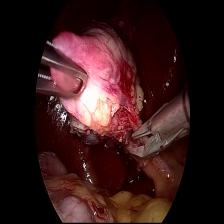Clipper: (128, 81, 193, 161)
Grasper: (35, 42, 88, 110)
